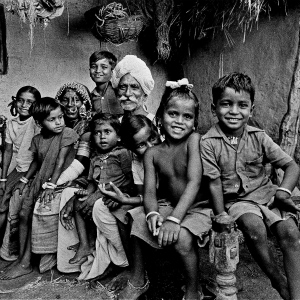person: (203, 79, 257, 153)
